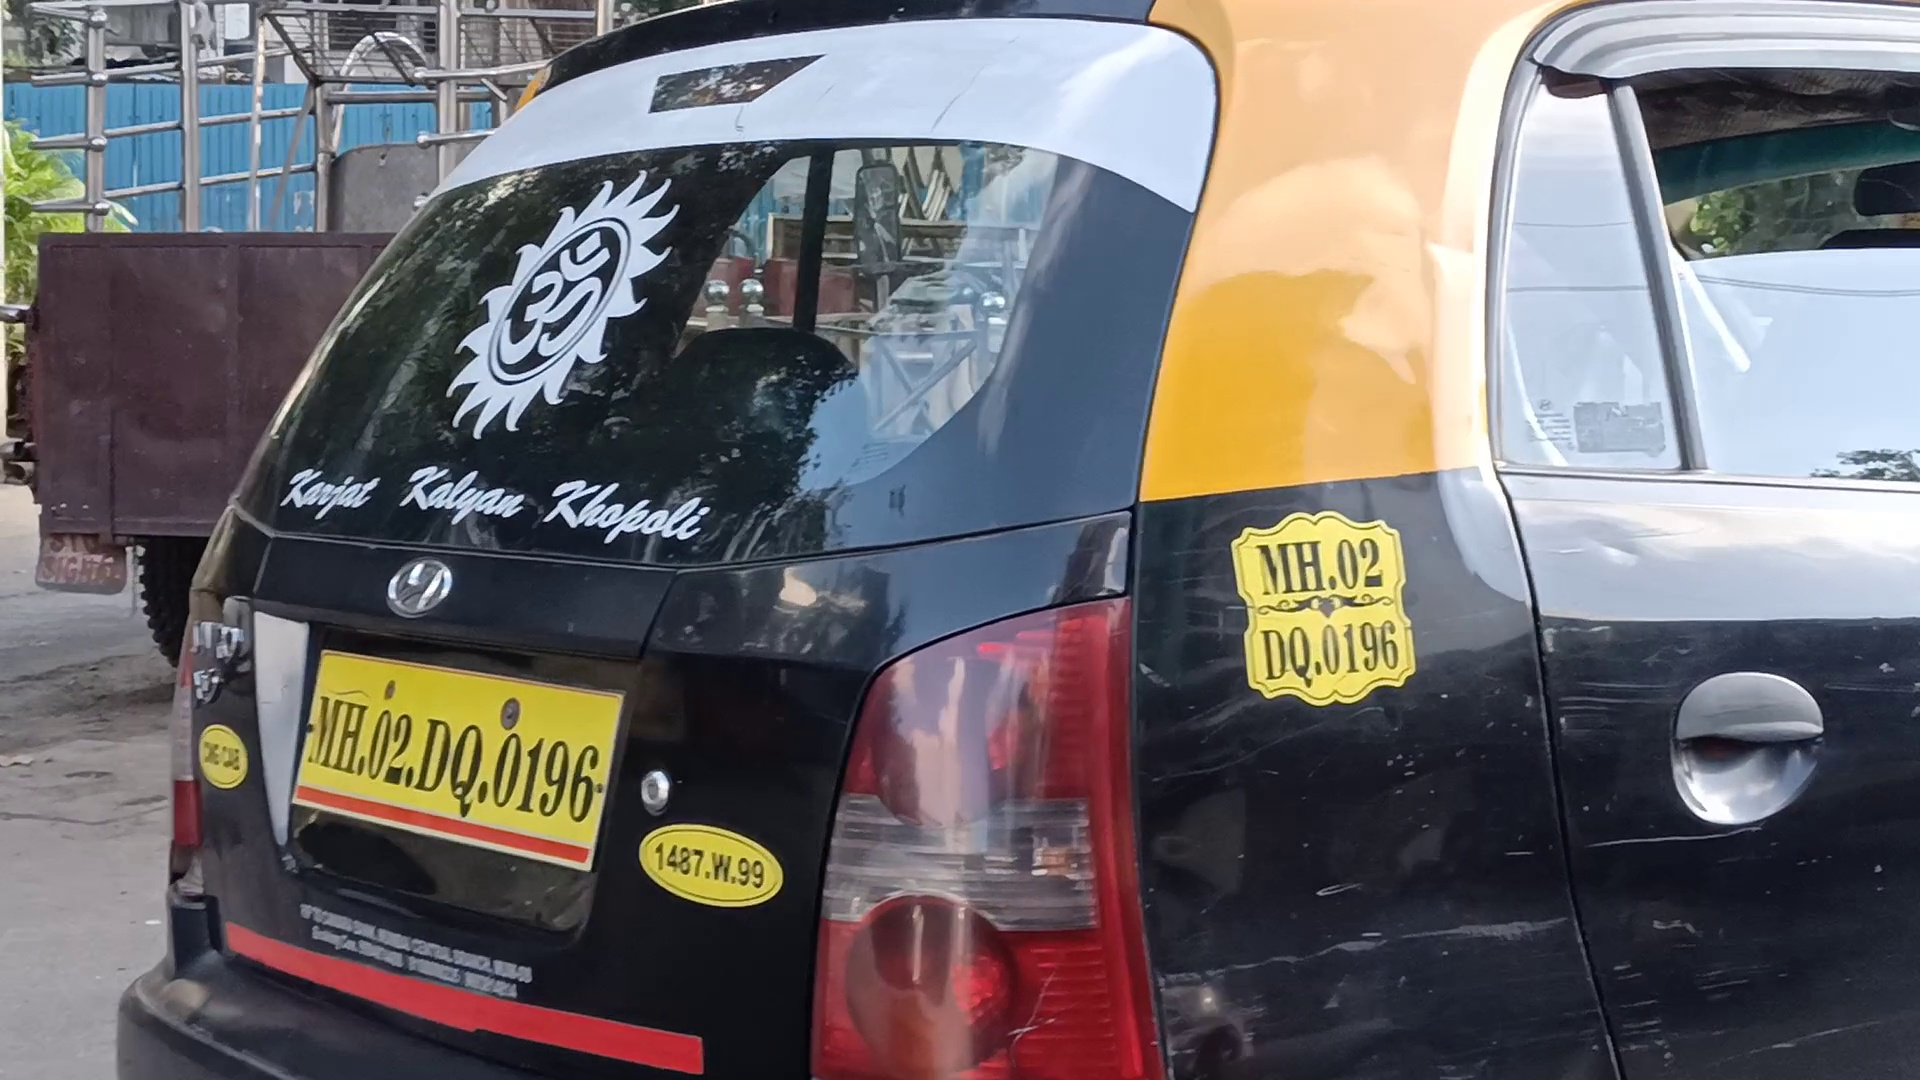MH02DQ0196: (286, 649, 625, 872)
